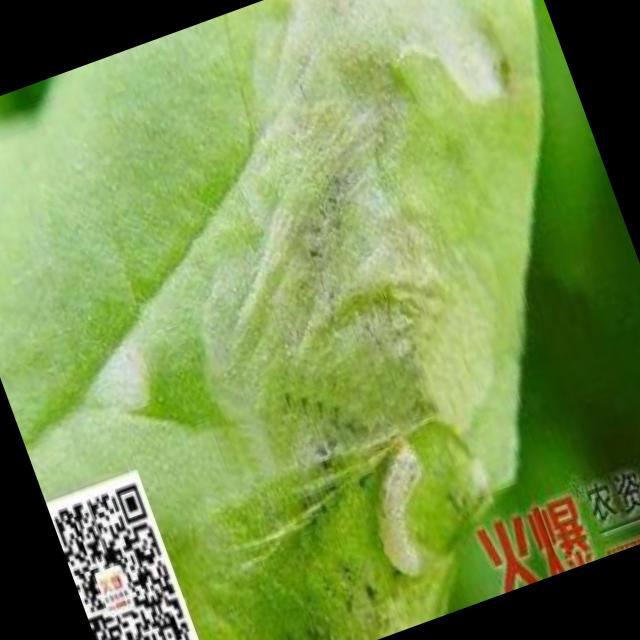whorl-maggot: (344, 422, 475, 609)
